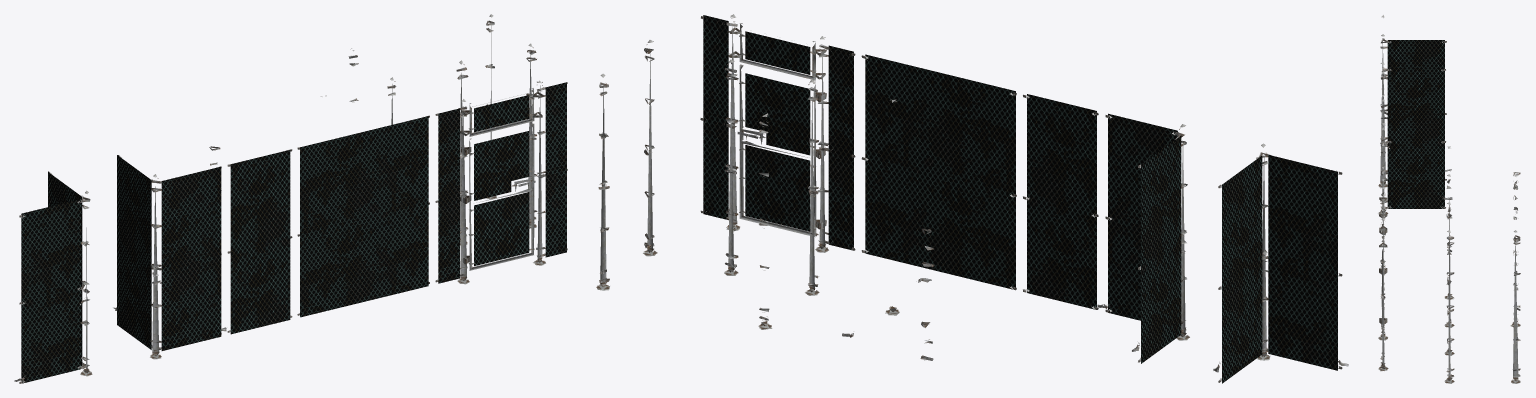
Rendered from modular_chainlink_fence.glb.
The picture shows the model from 3 angles, left to right: view 1: azimuth 30°, elevation 25°; view 2: azimuth 150°, elevation 25°; view 3: azimuth 270°, elevation 25°; orthographic projection. The views are drawn at different scales.
Parts seen in each view (by area): view 1: modular_chainlink_fence_double, modular_chainlink_fence_corner_outer, modular_chainlink_fence_corner_inner, modular_chainlink_fence_door_frame, modular_chainlink_fence, modular_chainlink_fence_door_gate, modular_chainlink_fence_start_01_corner_01; view 2: modular_chainlink_fence_double, modular_chainlink_fence_corner_inner, modular_chainlink_fence_corner_outer, modular_chainlink_fence_door_frame, modular_chainlink_fence, modular_chainlink_fence_door_gate, modular_chainlink_post_middle, modular_chainlink_fence_start_01_corner_02, modular_chainlink_fence_start_01_corner_01, modular_chainlink_fence_end_01; view 3: modular_chainlink_fence_corner_outer, modular_chainlink_fence_corner_inner, modular_chainlink_fence_door_frame, modular_chainlink_fence_start_01_corner_02, modular_chainlink_fence_start_01_corner_01, modular_chainlink_post_middle, modular_chainlink_fence_end_01.
Boxes of the visible parts, x1,y1,x2,y2 form: modular_chainlink_fence_double: (297, 115, 429, 317); modular_chainlink_fence_corner_outer: (113, 155, 226, 359); modular_chainlink_fence_corner_inner: (14, 171, 92, 383); modular_chainlink_fence_door_frame: (435, 80, 567, 284); modular_chainlink_fence: (227, 149, 292, 334); modular_chainlink_fence_door_gate: (468, 123, 534, 270); modular_chainlink_fence_start_01_corner_01: (526, 43, 537, 228); modular_chainlink_fence_double: (861, 54, 1016, 290); modular_chainlink_fence_corner_inner: (1213, 143, 1348, 383); modular_chainlink_fence_corner_outer: (1097, 113, 1189, 363); modular_chainlink_fence_door_frame: (700, 14, 855, 252); modular_chainlink_fence: (1023, 94, 1098, 309); modular_chainlink_fence_door_gate: (739, 64, 816, 237); modular_chainlink_post_middle: (724, 59, 738, 275); modular_chainlink_fence_start_01_corner_02: (596, 73, 609, 290); modular_chainlink_fence_start_01_corner_01: (643, 40, 657, 256); modular_chainlink_fence_end_01: (805, 79, 819, 295); modular_chainlink_fence_corner_outer: (1378, 62, 1452, 214); modular_chainlink_fence_corner_inner: (1378, 15, 1451, 187); modular_chainlink_fence_door_frame: (1378, 187, 1388, 371); modular_chainlink_fence_start_01_corner_02: (1511, 230, 1520, 383); modular_chainlink_fence_start_01_corner_01: (1444, 230, 1454, 383); modular_chainlink_post_middle: (1444, 202, 1454, 355); modular_chainlink_fence_end_01: (1444, 174, 1454, 327).
Bounding box in the file's own units: 8.13 × 2.53 × 2.18.
Materials: 2 (2 with a texture image).
